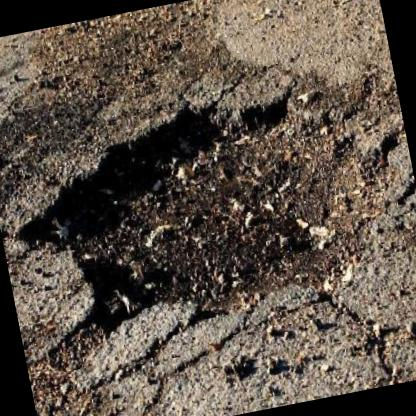pothole: (0, 64, 416, 352)
